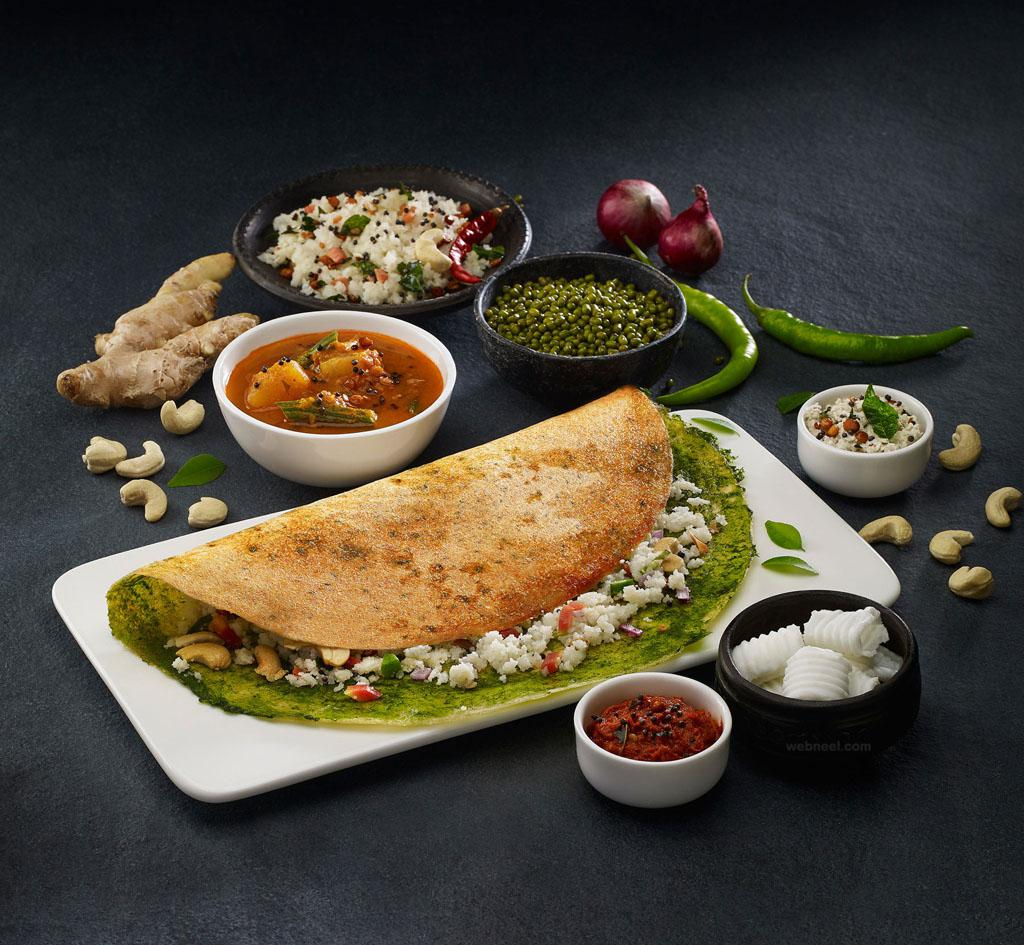dosa: (102, 387, 757, 724)
